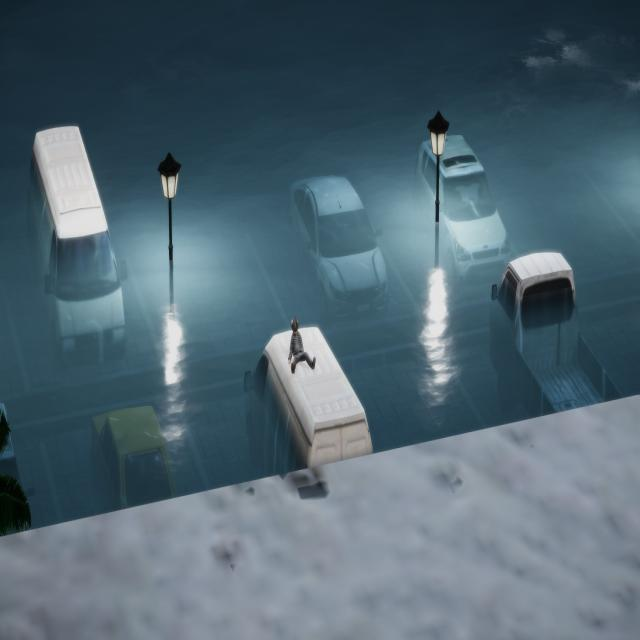Human: (282, 306, 320, 380)
